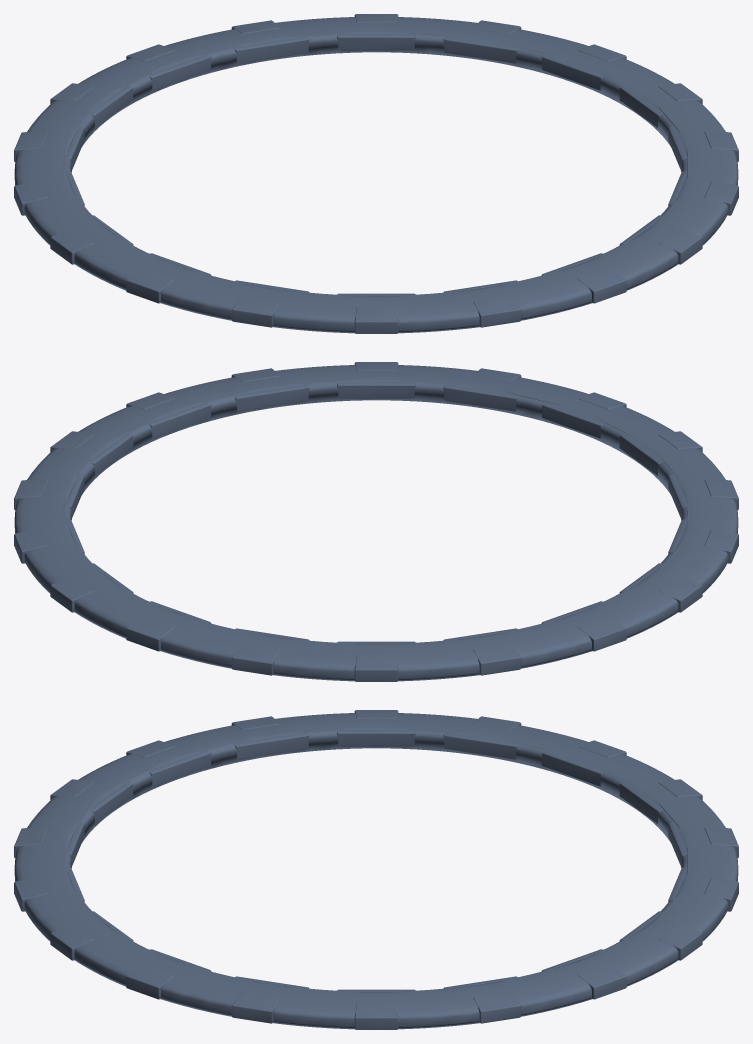
Rendered from FortressFoundationRing.fbx.
The picture shows the model from 3 angles, top to bottom: view 1: azimuth 30°, elevation 25°; view 2: azimuth 150°, elevation 25°; view 3: azimuth 270°, elevation 25°; orthographic projection.
Visible parts, largest first — view 1: FortressFoundationRing_Mesh; view 2: FortressFoundationRing_Mesh; view 3: FortressFoundationRing_Mesh.
Part boxes in pixels (box(x1,y1,x2,y2)): FortressFoundationRing_Mesh: box(14, 14, 738, 333); FortressFoundationRing_Mesh: box(14, 362, 738, 681); FortressFoundationRing_Mesh: box(14, 710, 738, 1029).
Size of the model in its own units: 50.81 by 1.35 by 50.54.
